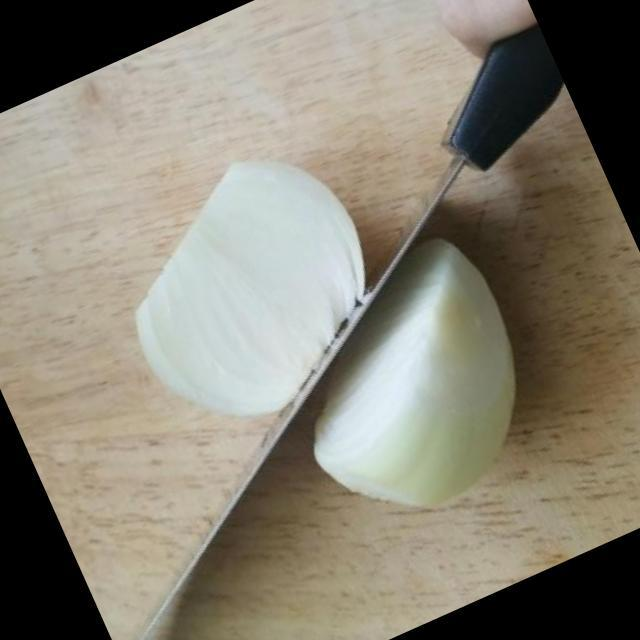Onion: (133, 158, 366, 417), (319, 243, 515, 501)
